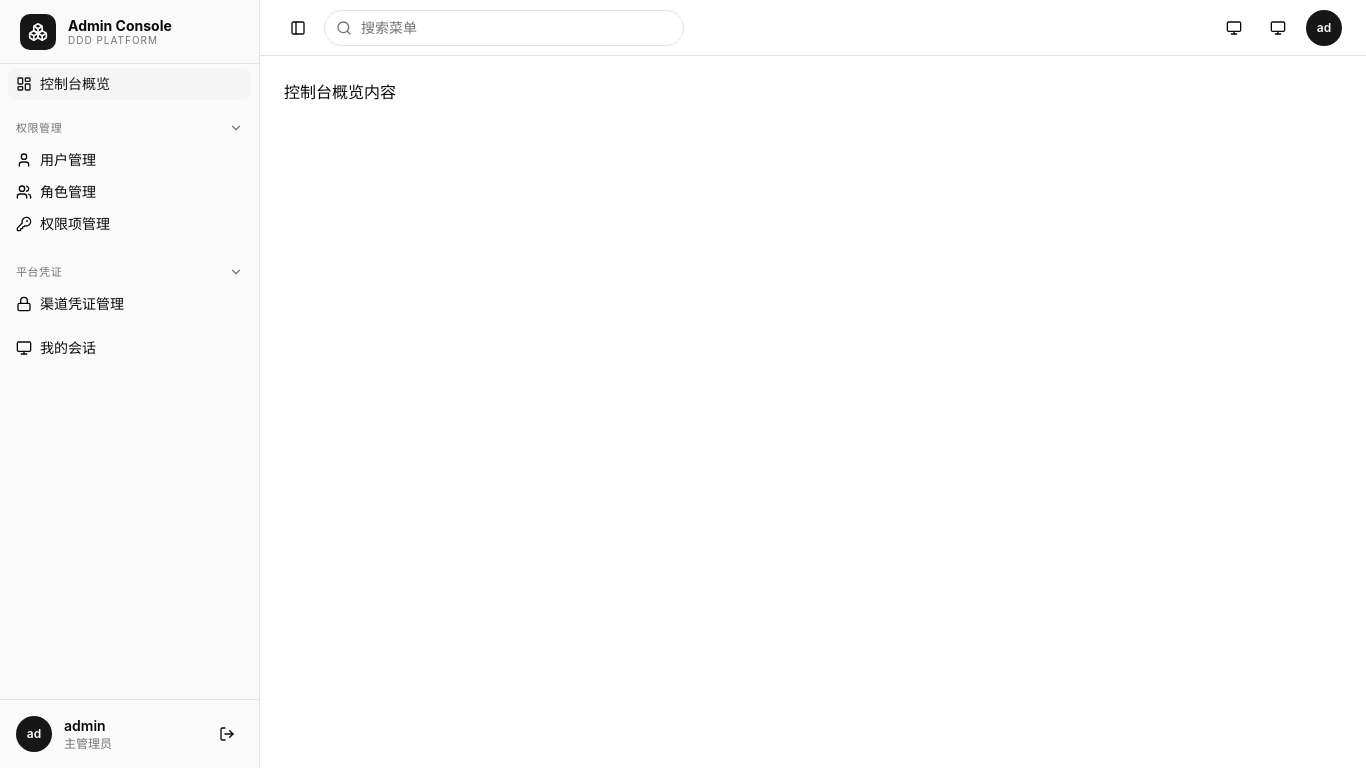
Scenario: AppLayout 布局与菜单交互 › 3. 搜索「角色管理」后只剩该项（「用户管理」「权限项管理」等消失）
Type "角色管理" into the field with placeholder "搜索菜单".
click(504, 28); type("角色管理")  # box [324, 10, 684, 46]
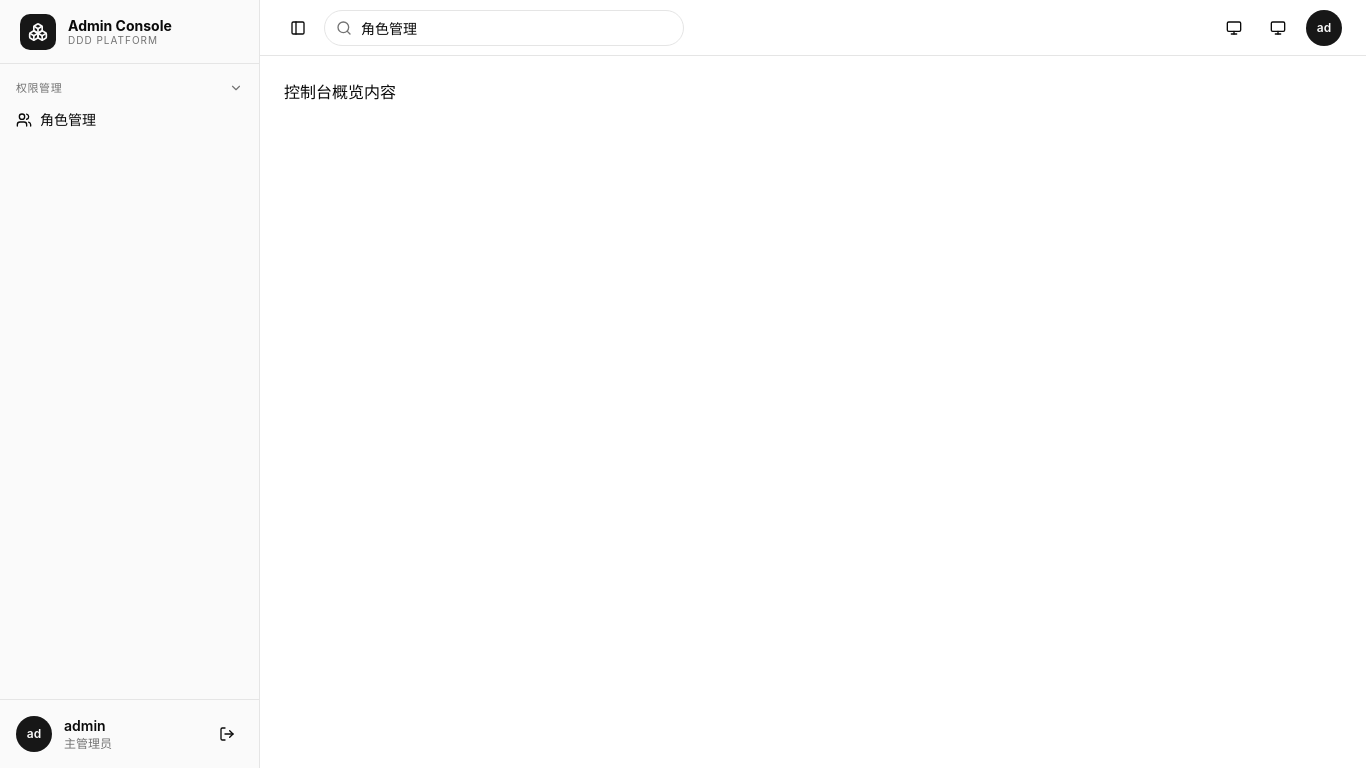
Check: the link "用户管理" is gone
Check: the link "权限项管理" is gone
Check: the button "平台凭证" is gone
